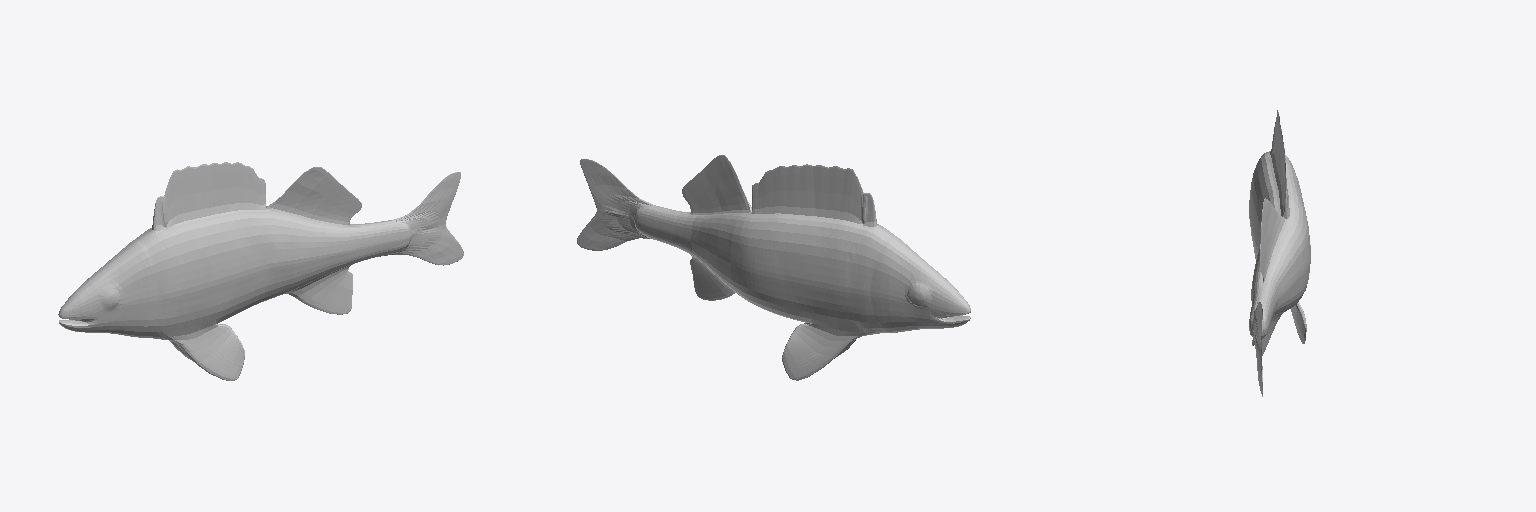
File: fish16.obj
3 renders of one model, left to right at view 1: azimuth 30°, elevation 25°; view 2: azimuth 150°, elevation 25°; view 3: azimuth 270°, elevation 25°, orthographic.
Parts seen in each view (by area): view 1: bass:Mesh; view 2: bass:Mesh; view 3: bass:Mesh.
Boxes of the visible parts, x1,y1,x2,y2 form: bass:Mesh: [58, 162, 463, 380]; bass:Mesh: [577, 155, 970, 380]; bass:Mesh: [1249, 110, 1310, 396].
Size of the model in its own units: 5.83 by 2.97 by 0.7824.